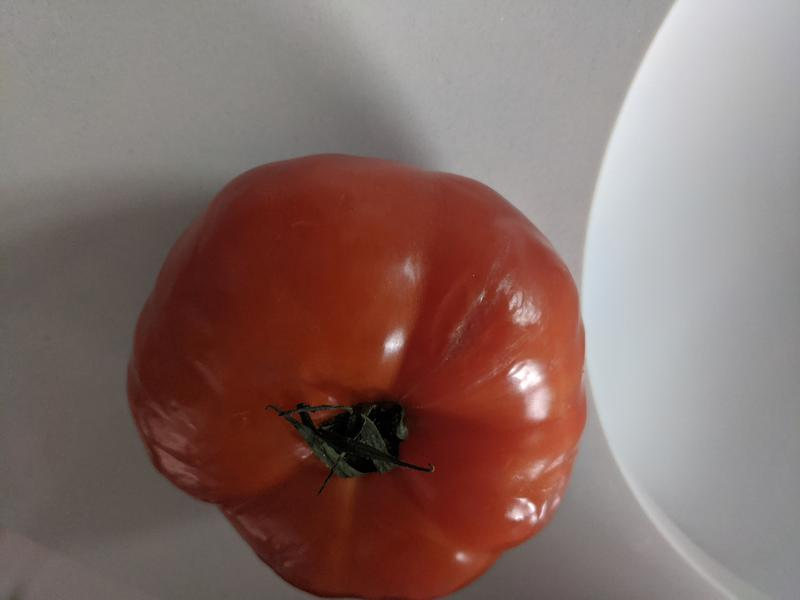tomato: (126, 153, 590, 600)
